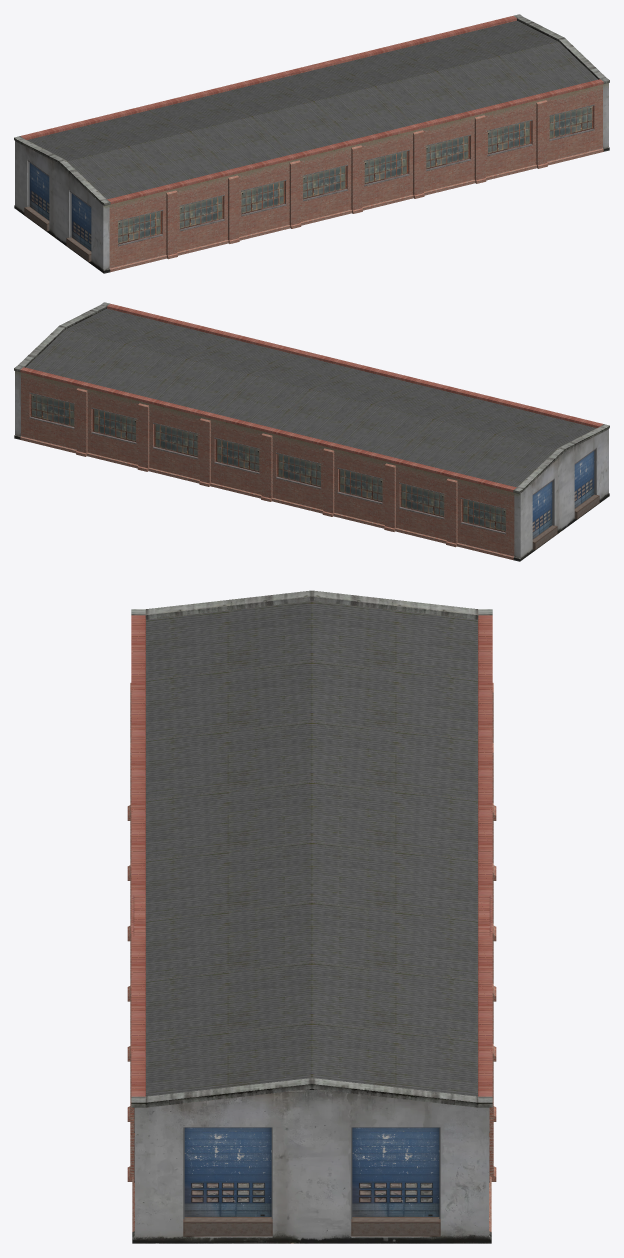
File: long_warehouse.glb
3 renders of one model, top to bottom at view 1: azimuth 30°, elevation 25°; view 2: azimuth 150°, elevation 25°; view 3: azimuth 270°, elevation 25°, orthographic. The views are drawn at different scales.
Visible parts, largest first — view 1: parapet_atlas_B517_0, brick_Wall.002_main_Bricks_0, industrialWindow.002_industrialWindow_0, warehouse facade_facadeBare_0, rollUpDoor_rollUpDoor_0, decalMoss_decalMoss_0; view 2: parapet_atlas_B517_0, brick_Wall.002_main_Bricks_0, industrialWindow.002_industrialWindow_0, warehouse facade_facadeBare_0, rollUpDoor_rollUpDoor_0, decalMoss_decalMoss_0; view 3: parapet_atlas_B517_0, warehouse facade_facadeBare_0, rollUpDoor_rollUpDoor_0, brick_Wall.002_main_Bricks_0.
Boxes of the visible parts, x1,y1,x2,y2 form: parapet_atlas_B517_0: (14, 14, 609, 205); brick_Wall.002_main_Bricks_0: (109, 85, 603, 272); industrialWindow.002_industrialWindow_0: (118, 104, 594, 246); warehouse facade_facadeBare_0: (14, 83, 609, 273); rollUpDoor_rollUpDoor_0: (24, 160, 91, 261); decalMoss_decalMoss_0: (103, 83, 608, 209); parapet_atlas_B517_0: (14, 302, 609, 493); brick_Wall.002_main_Bricks_0: (20, 373, 590, 560); industrialWindow.002_industrialWindow_0: (29, 392, 505, 534); warehouse facade_facadeBare_0: (14, 371, 609, 561); rollUpDoor_rollUpDoor_0: (532, 448, 599, 549); decalMoss_decalMoss_0: (15, 371, 520, 497); parapet_atlas_B517_0: (131, 590, 492, 1107); warehouse facade_facadeBare_0: (132, 1089, 491, 1243); rollUpDoor_rollUpDoor_0: (183, 1127, 440, 1236); brick_Wall.002_main_Bricks_0: (127, 683, 496, 1231).
Bounding box in the file's own units: 33.06 × 4.95 × 10.38.
Materials: 6 (6 with a texture image).
